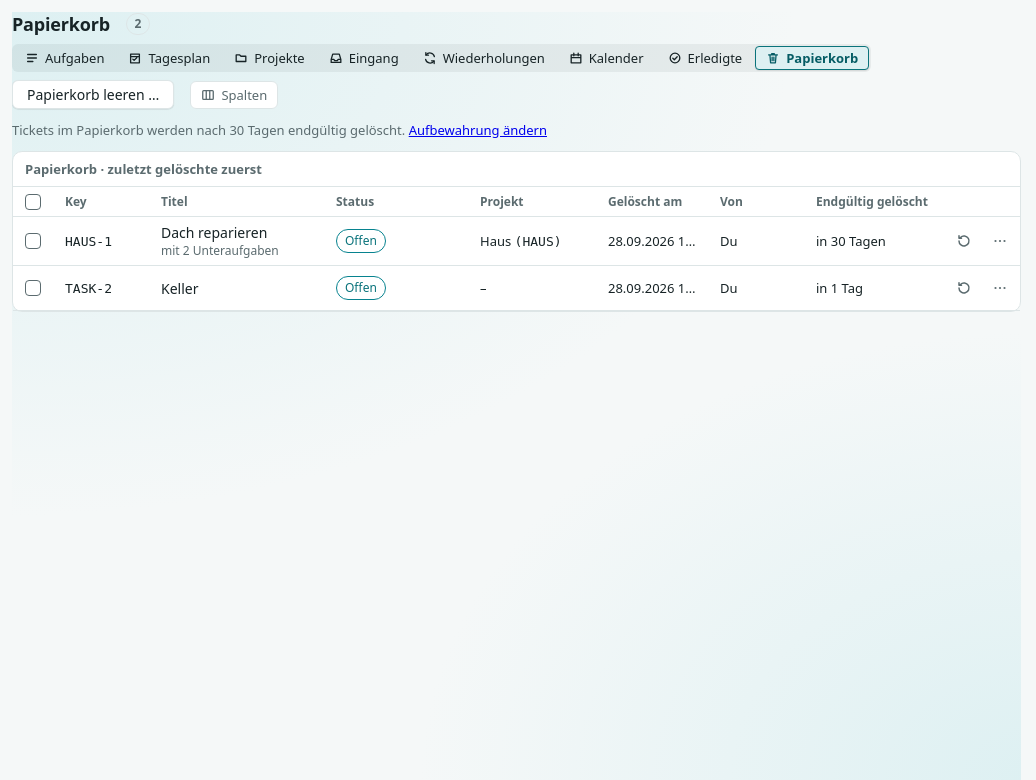
"Papierkorb" outside the phone frame stays the table (MO-7b) › keeps the table, the switch and the bar of the PC on a PC with the switch on
This screenshot has width=1036, height=780.
Check: the table is shown, box [13, 152, 1020, 311]
Check: the button "Papierkorb leeren …" is shown, box [12, 80, 174, 109]
What coordinates should you click on to do the following:
click the checkbox named "Alle Tickets im Papierkorb auswählen"
I would click on:
 (33, 202)
Its box is [25, 194, 41, 210].
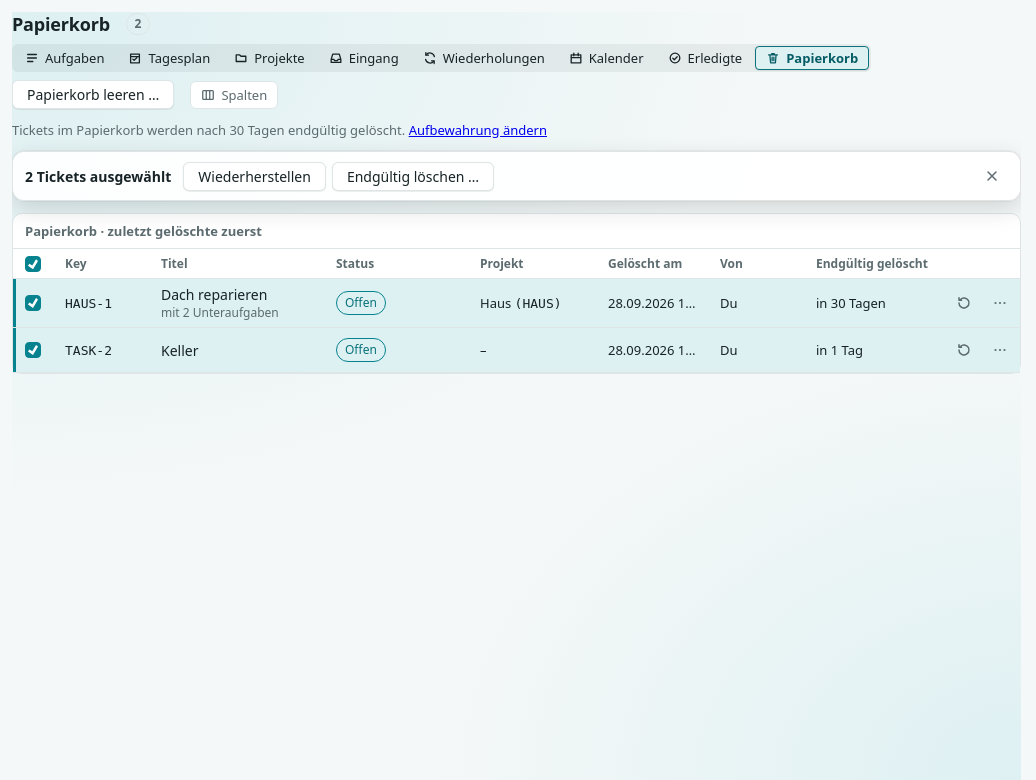
Check: the button "Wiederherstellen" is shown, box [183, 162, 326, 190]
